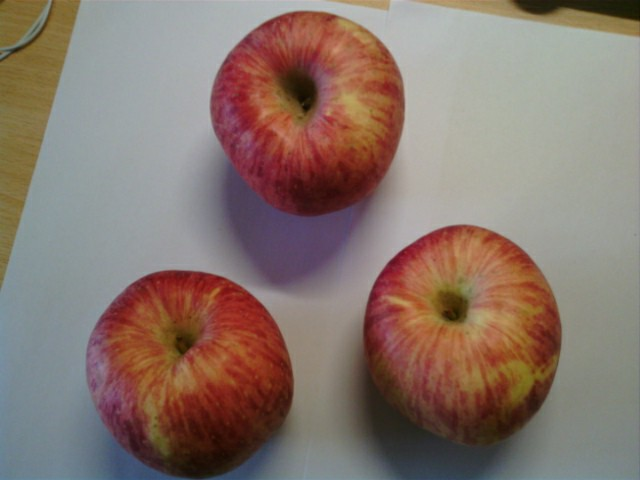normal_apple: (362, 223, 565, 447), (85, 267, 296, 480), (211, 12, 406, 217)
